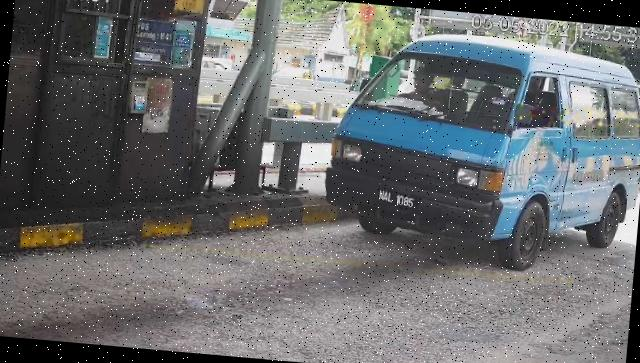License_Plate: (374, 188, 421, 215)
van: (319, 23, 640, 281)
